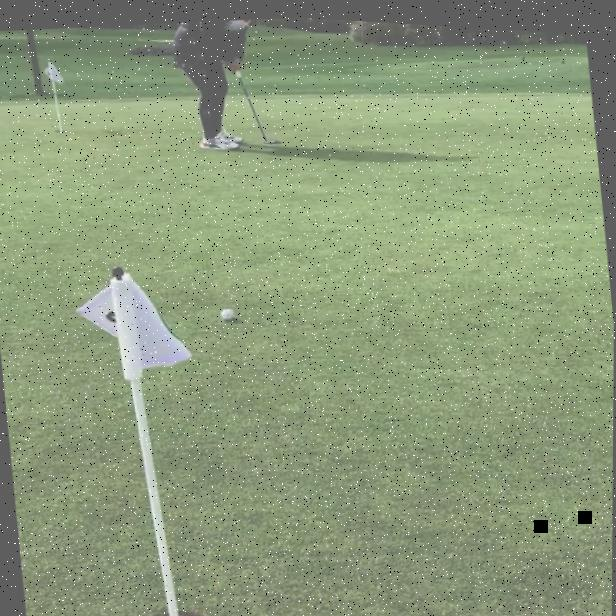ClubHead: (263, 135, 276, 140)
GolfBall: (220, 304, 235, 318)
